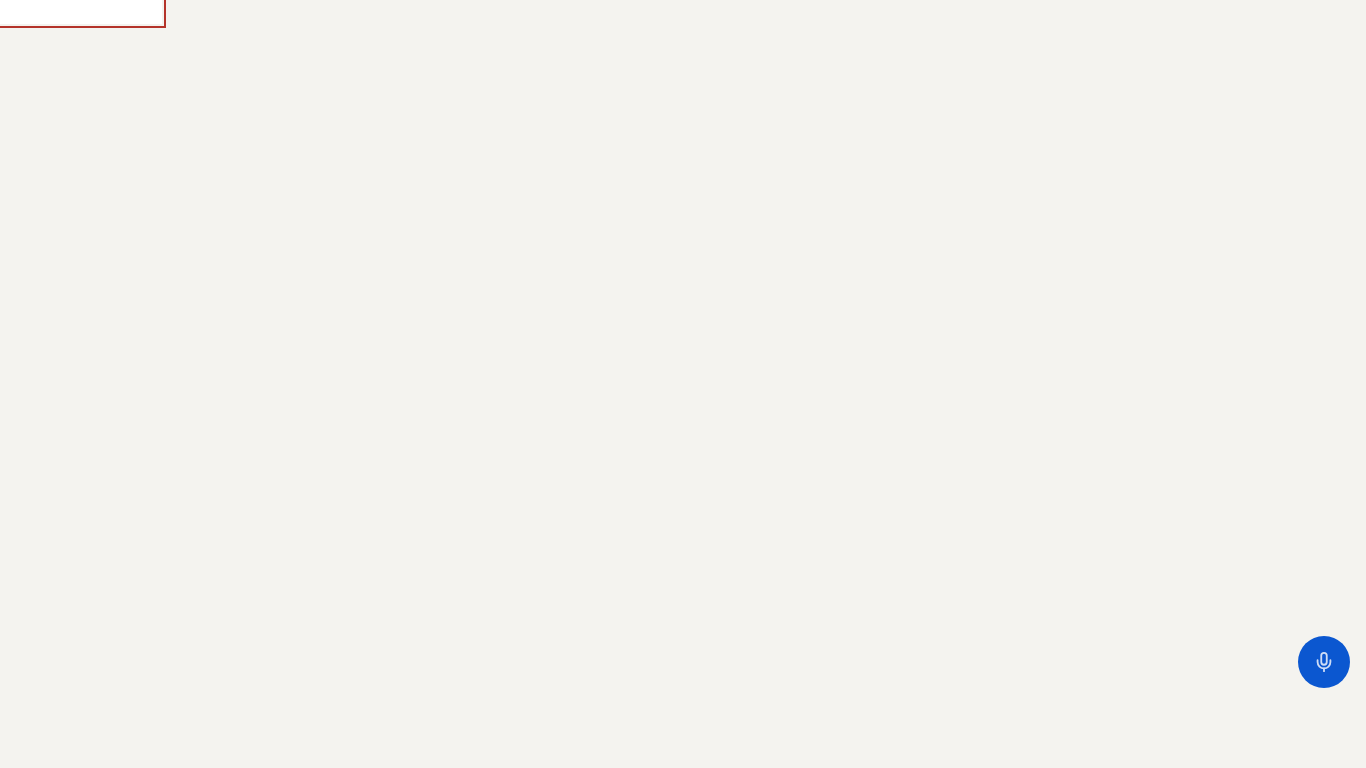
Scenario: 日時追加のダイアログ › 日時を埋めて群を出るとき、題だけの「別の日程も追加しますか？」を出す
The image size is (1366, 768).
Click the button named "音声入力を開始".
click(1324, 662)  # box [1298,636,1350,688]
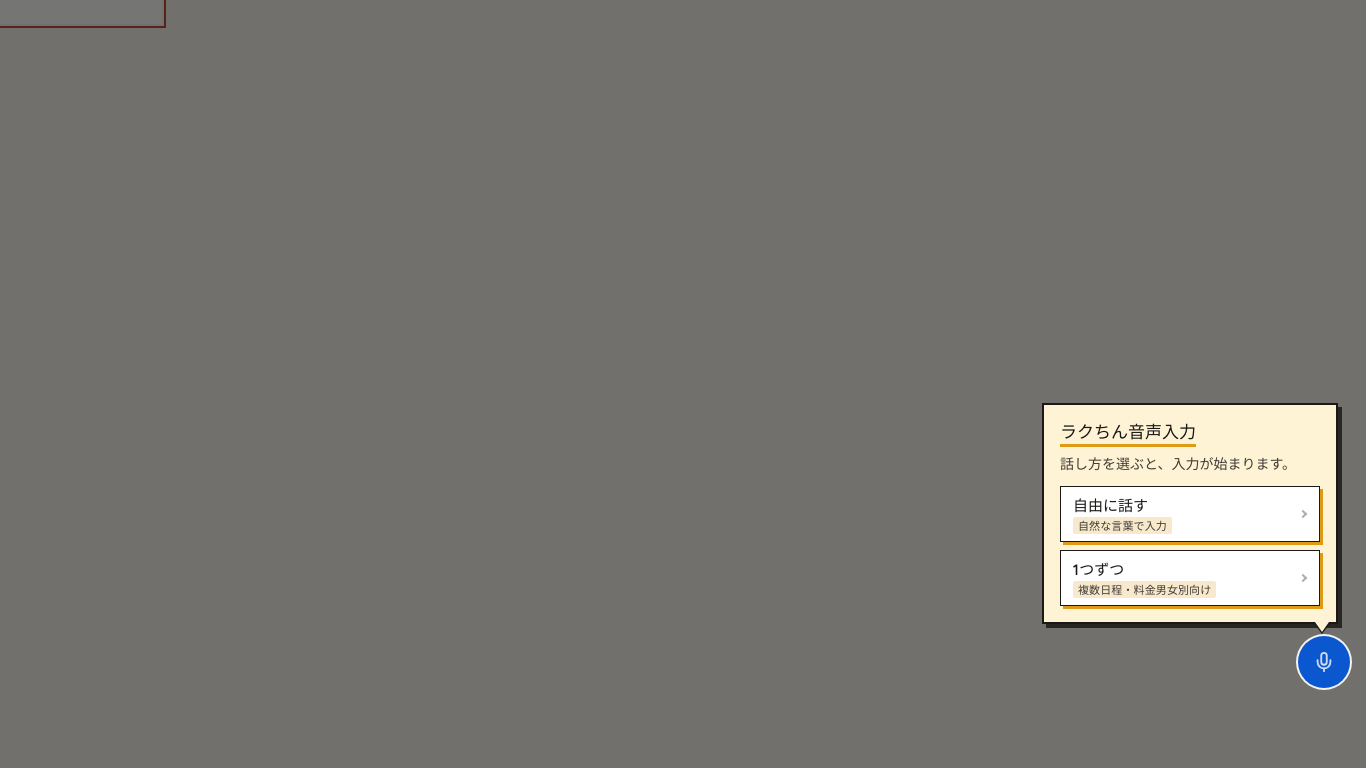
Click the button "1つずつ 複数日程・料金男女別向け".
click(1099, 569)  # box [1060,550,1320,606]
Wait 1550 ms
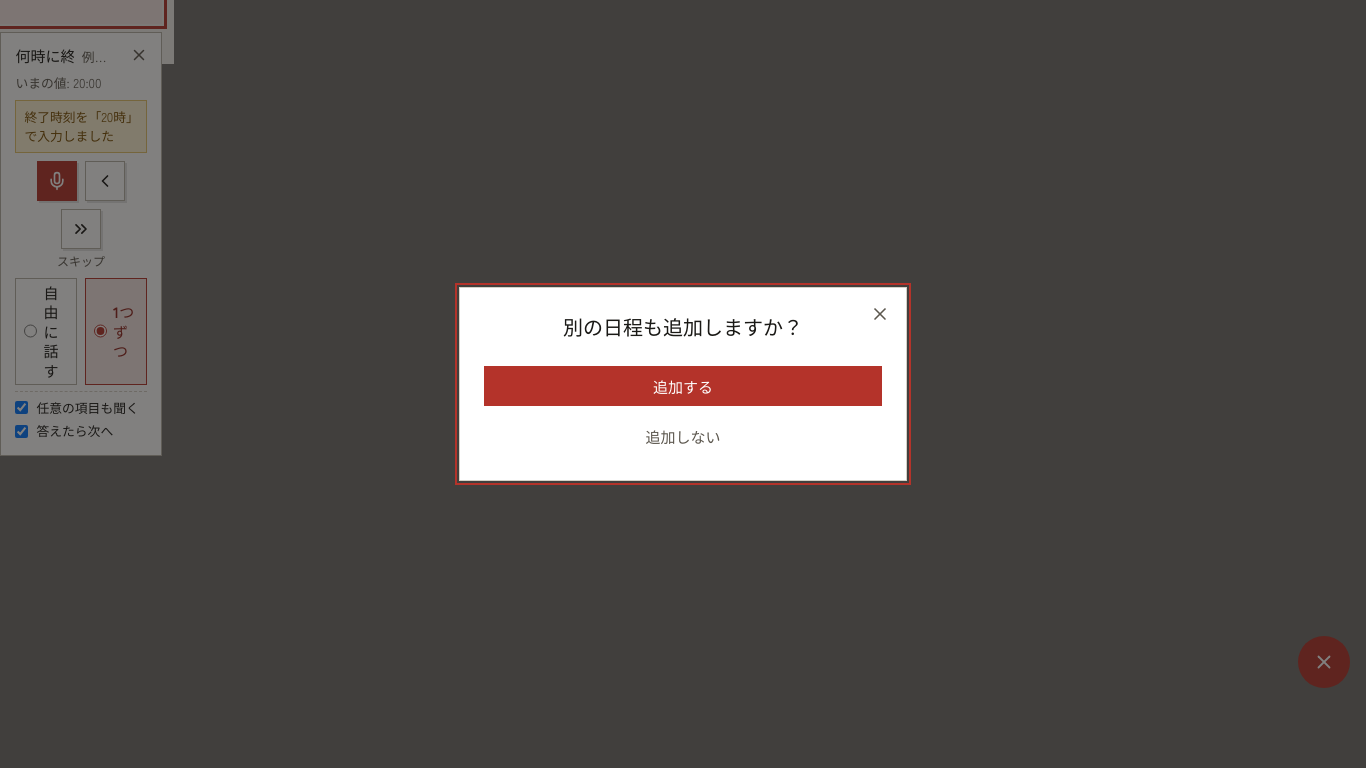
Expected: the heading "別の日程も追加しますか？" is shown, [563,312,803,341]
